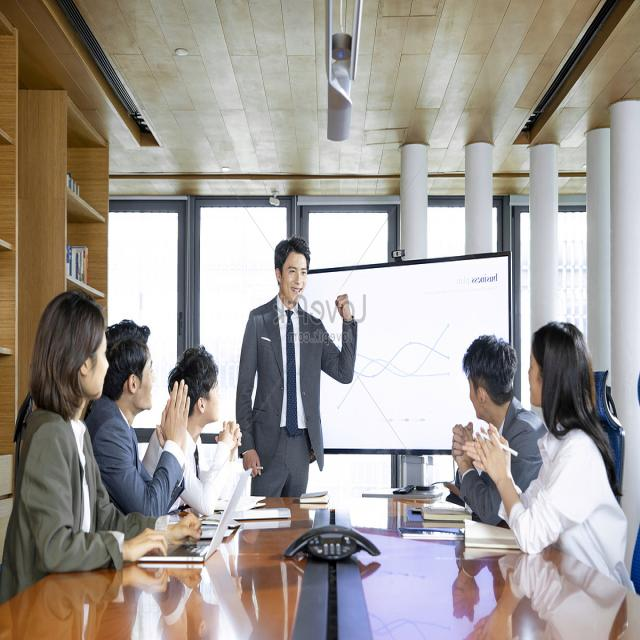adult: (0, 286, 191, 597), (478, 316, 627, 578), (241, 240, 352, 493), (83, 322, 188, 526), (450, 334, 531, 517), (156, 341, 231, 515)
